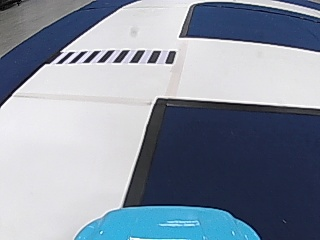CrossWalk: (56, 48, 182, 66)
